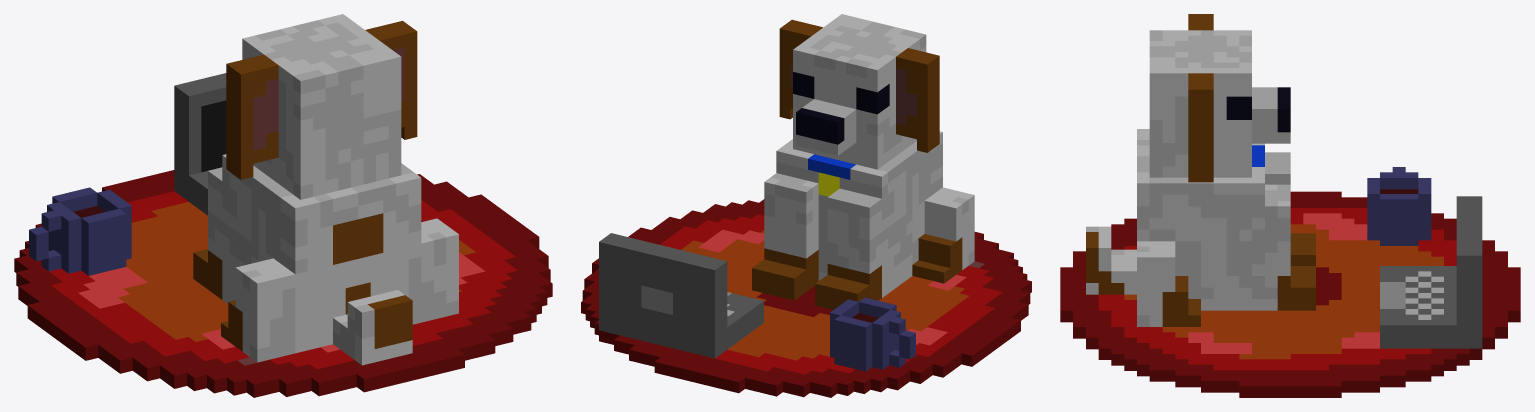
File: krimoo.glb
The picture shows the model from 3 angles, left to right: view 1: azimuth 30°, elevation 25°; view 2: azimuth 150°, elevation 25°; view 3: azimuth 270°, elevation 25°; orthographic projection. The views are drawn at different scales.
Parts seen in each view (by area): view 1: defaultobject; view 2: defaultobject; view 3: defaultobject.
Part boxes in pixels (x1,y1,x2,y2): defaultobject: (14, 14, 552, 397); defaultobject: (581, 14, 1031, 397); defaultobject: (1060, 14, 1520, 397).
Bounding box in the file's own units: 3.6 × 2.1 × 3.6.
1 material, 1 textured.
